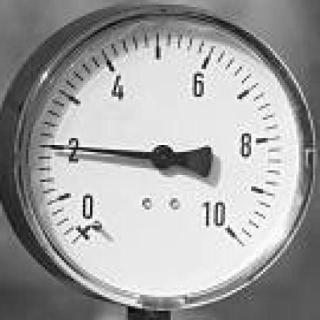gauge: (0, 0, 320, 320), (63, 190, 115, 253), (197, 199, 249, 256), (148, 143, 175, 172), (36, 138, 57, 154)
